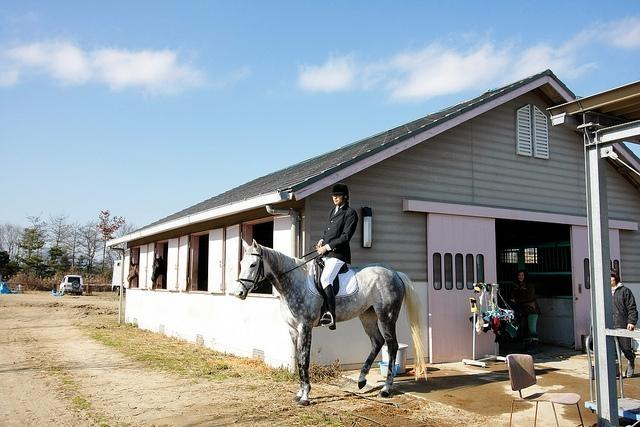car: (60, 274, 84, 295)
